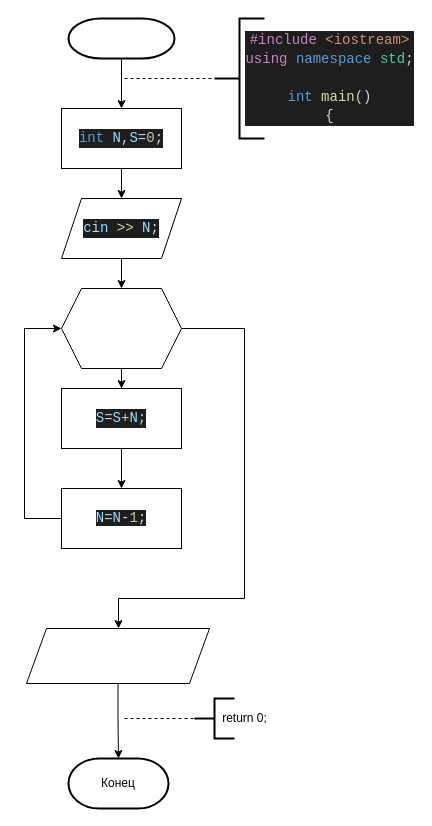
Image size: 432x826. Some labels were removed from this diagram. The shapes that lost their labels are listed below. From the top down, each one's centre as x and y in pixels, then its label:
At point (121, 38): "Запуск".
At point (121, 328): "while ( N != 0 )".
At point (118, 656): "cout << S << endl ;".
